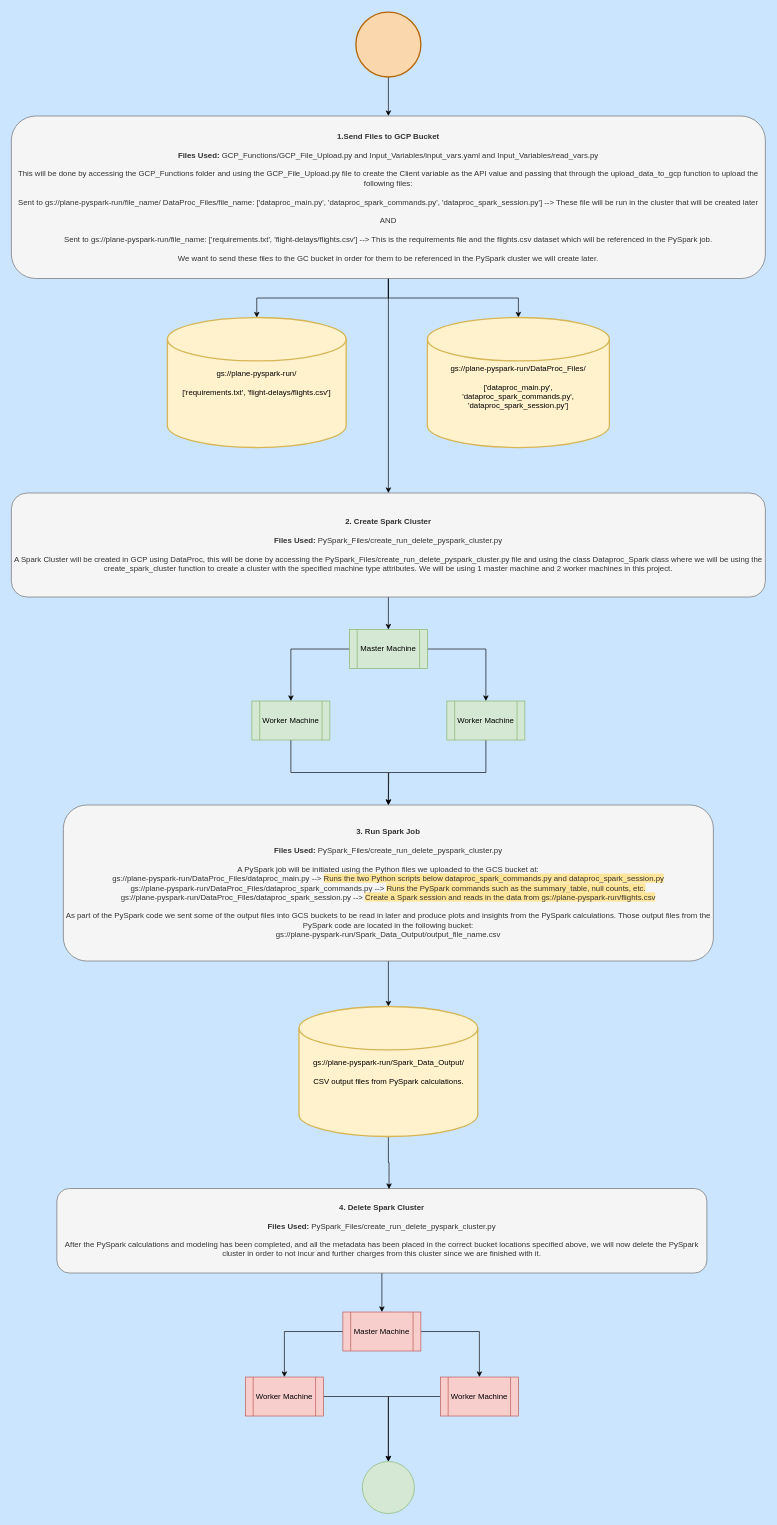
Image size: 777x1525. Some labels were removed from this diagram. The centre of each missing label's shape, as x and y in pixels:
"Done" goes at [388,1487].
"main.py" goes at [388,44].
